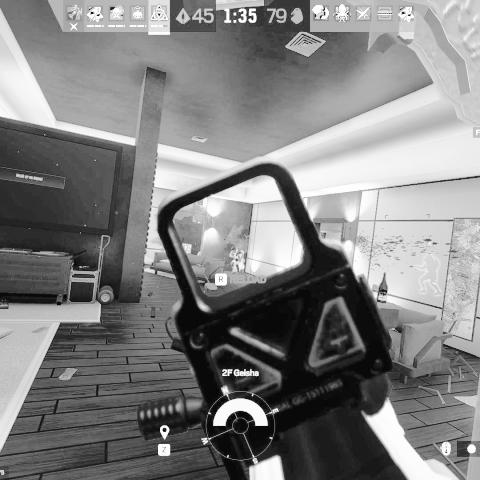Character: (228, 246, 246, 275)
Friend_label: (420, 238, 440, 256)
Head: (231, 246, 237, 253)
